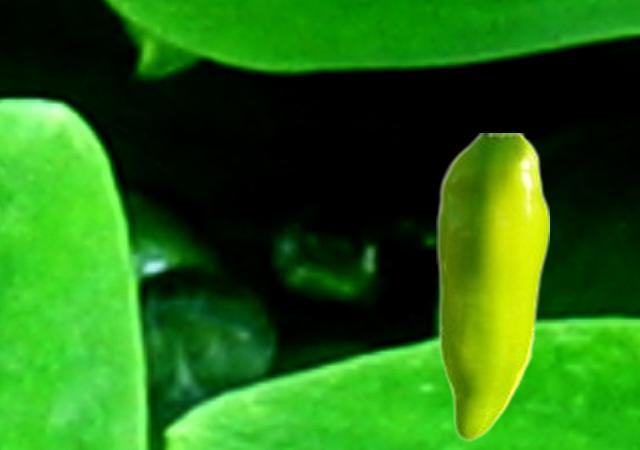green_chili: (436, 133, 548, 441)
